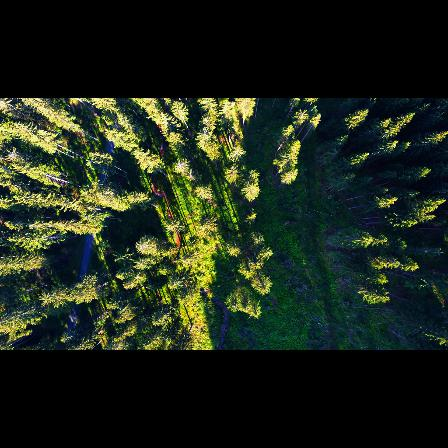Sick: (173, 158, 189, 174)
